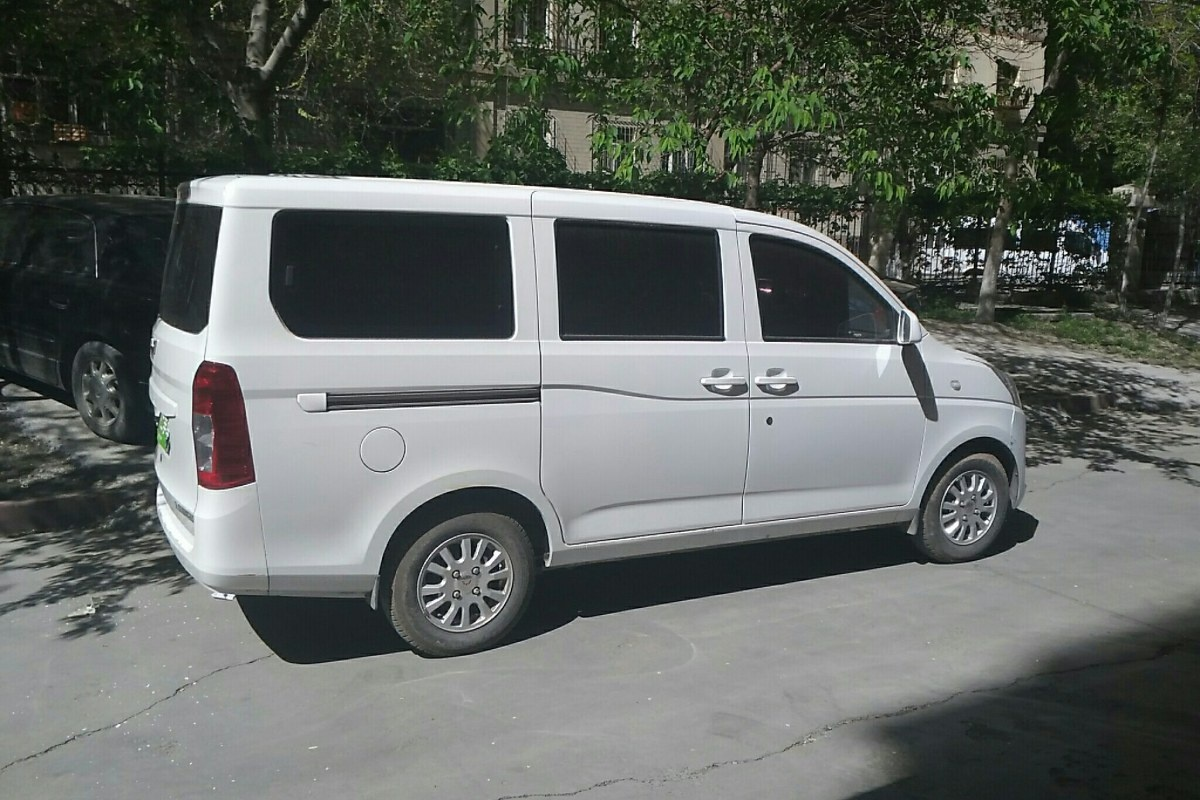minibus: (116, 147, 1064, 657)
